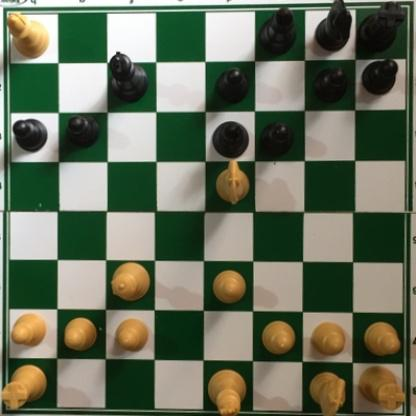black-bishop: (256, 1, 296, 57), (210, 120, 250, 158)
black-king: (104, 49, 150, 104)
black-knight: (313, 1, 356, 55)
black-pawn: (360, 57, 399, 98), (312, 65, 348, 105), (257, 121, 295, 158), (213, 67, 248, 105), (64, 114, 99, 151), (13, 118, 48, 153)
black-rook: (355, 1, 405, 55)
white-bishop: (6, 11, 51, 60)
white-king: (205, 366, 248, 416)
white-knight: (308, 370, 348, 416), (213, 158, 248, 209)
white-pawn: (211, 268, 249, 308), (309, 318, 347, 357), (258, 317, 296, 355), (361, 320, 399, 358), (8, 310, 49, 345), (61, 316, 100, 352), (113, 316, 152, 352)
white-queen: (109, 260, 152, 302)
white-rook: (354, 362, 406, 411), (1, 363, 49, 410)
